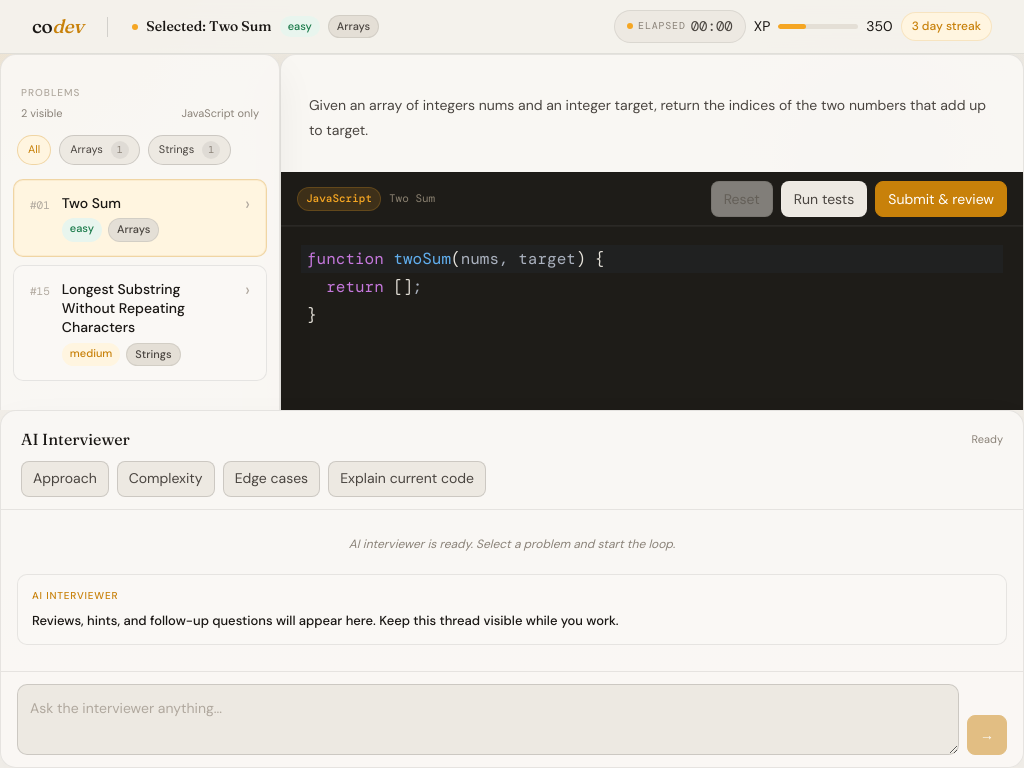
App problem list flow › shows chat errors when the follow-up request fails
Expected: the heading "Selected: Two Sum" is shown, [146, 19, 272, 34]
Type "Is my complexity right?" into the text box with placeholder "Ask the interviewer anything..." at (488, 720), box [17, 684, 959, 755]
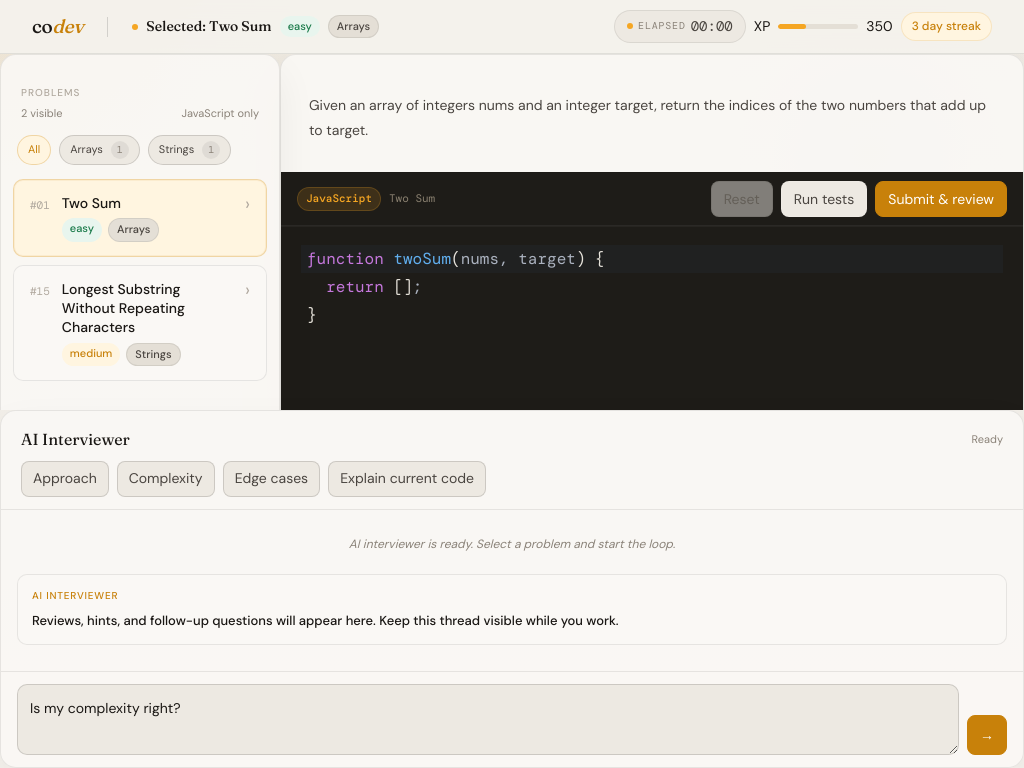
Click the button named "Send message" at (987, 735), box [967, 715, 1007, 755]
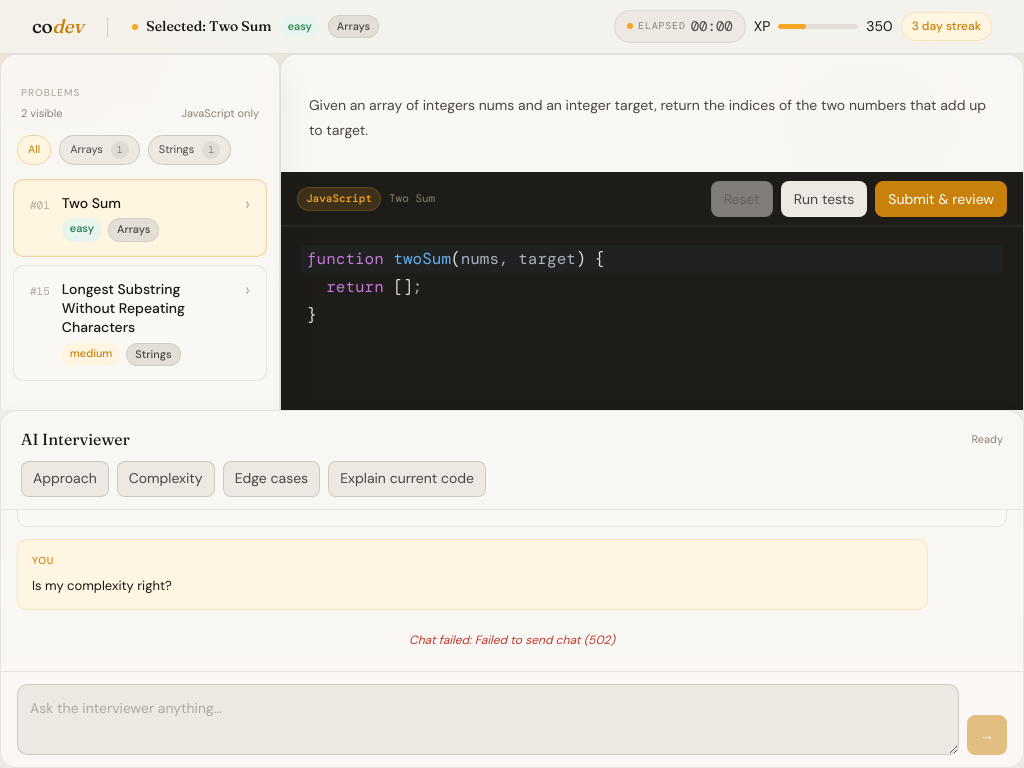
Now the text "Chat failed: Failed to send chat (502)" is shown, box [409, 632, 615, 648]
